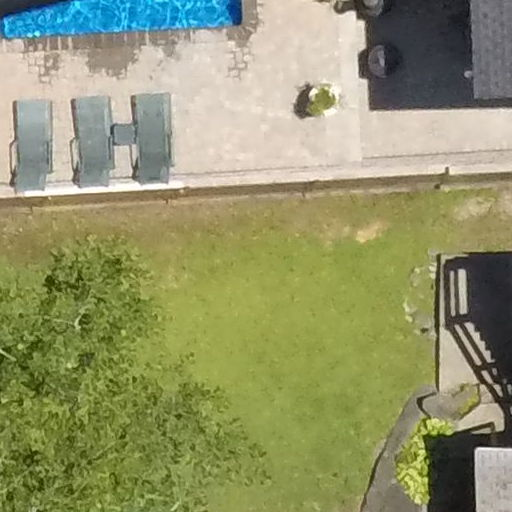flower pot: (292, 74, 345, 121)
pool: (1, 1, 259, 57)
